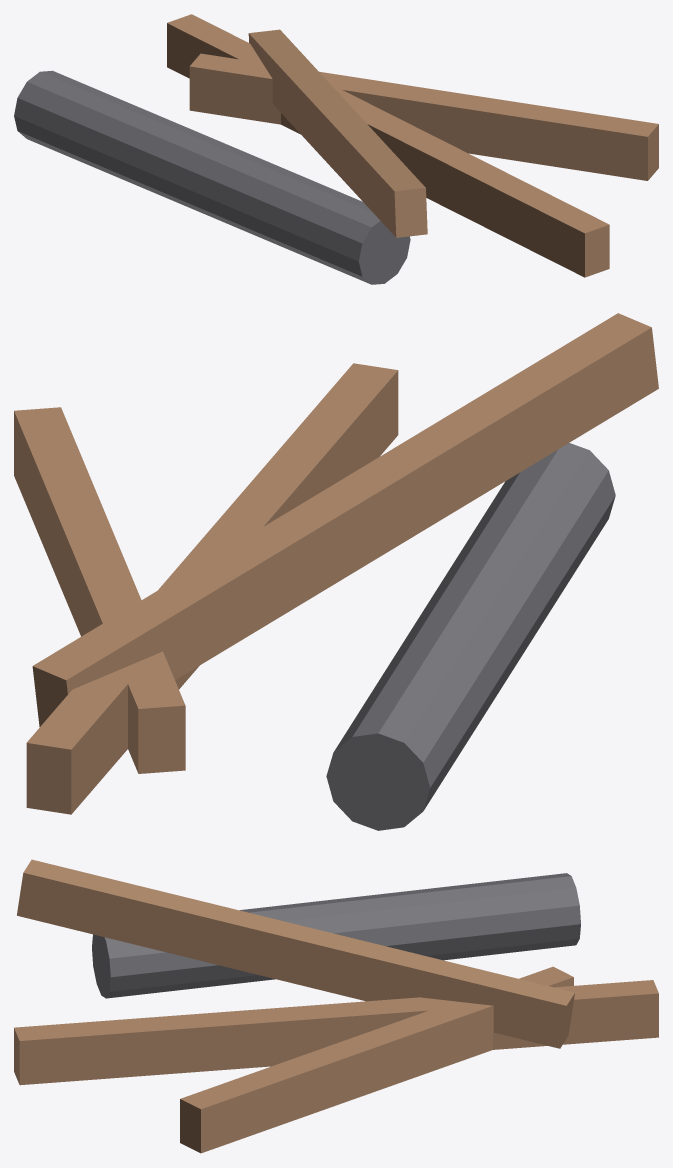
File: Girders.fbx
The picture shows the model from 3 angles, top to bottom: view 1: azimuth 30°, elevation 25°; view 2: azimuth 150°, elevation 25°; view 3: azimuth 270°, elevation 25°; orthographic projection. The views are drawn at different scales.
Parts seen in each view (by area): view 1: Girders_Mesh; view 2: Girders_Mesh; view 3: Girders_Mesh.
Part boxes in pixels (x1=…): Girders_Mesh: x1=14, y1=14, x2=658, y2=284; Girders_Mesh: x1=14, y1=313, x2=658, y2=830; Girders_Mesh: x1=14, y1=859, x2=658, y2=1153.
Bounding box in the file's own units: 6.59 × 7.95 × 1.68.
